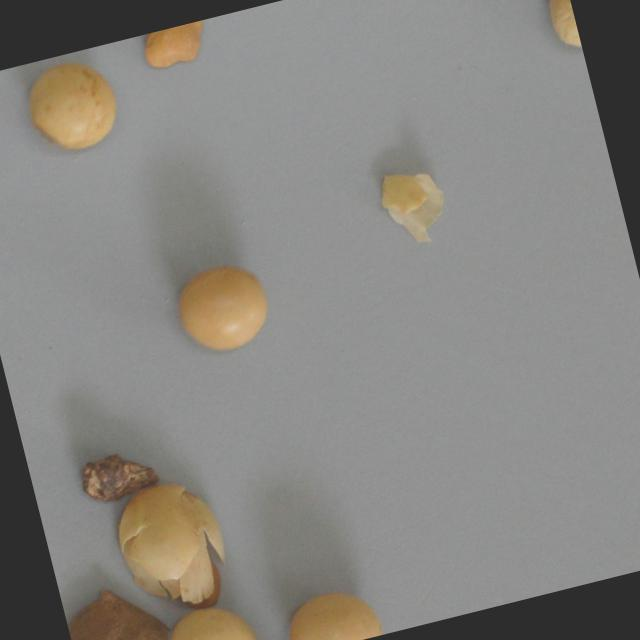cuerpos_extranos: (103, 468, 241, 628), (13, 43, 132, 168), (160, 249, 281, 367), (365, 156, 462, 262), (58, 565, 179, 640), (68, 436, 169, 514), (274, 574, 389, 640), (132, 18, 219, 78), (153, 595, 259, 640), (531, 0, 585, 69)
